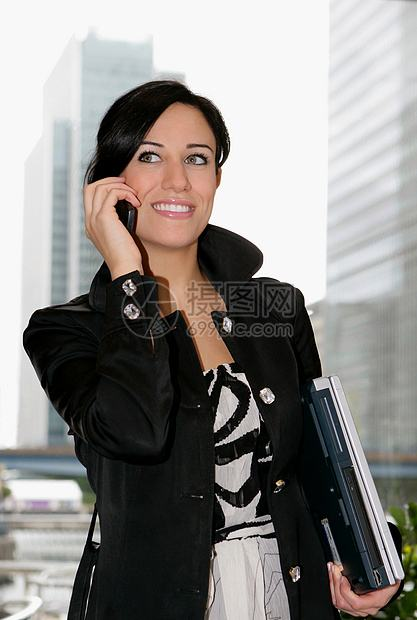calling: (81, 172, 146, 265)
